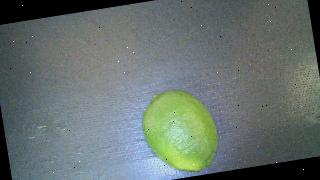EXPORTACION: (138, 84, 223, 178)
